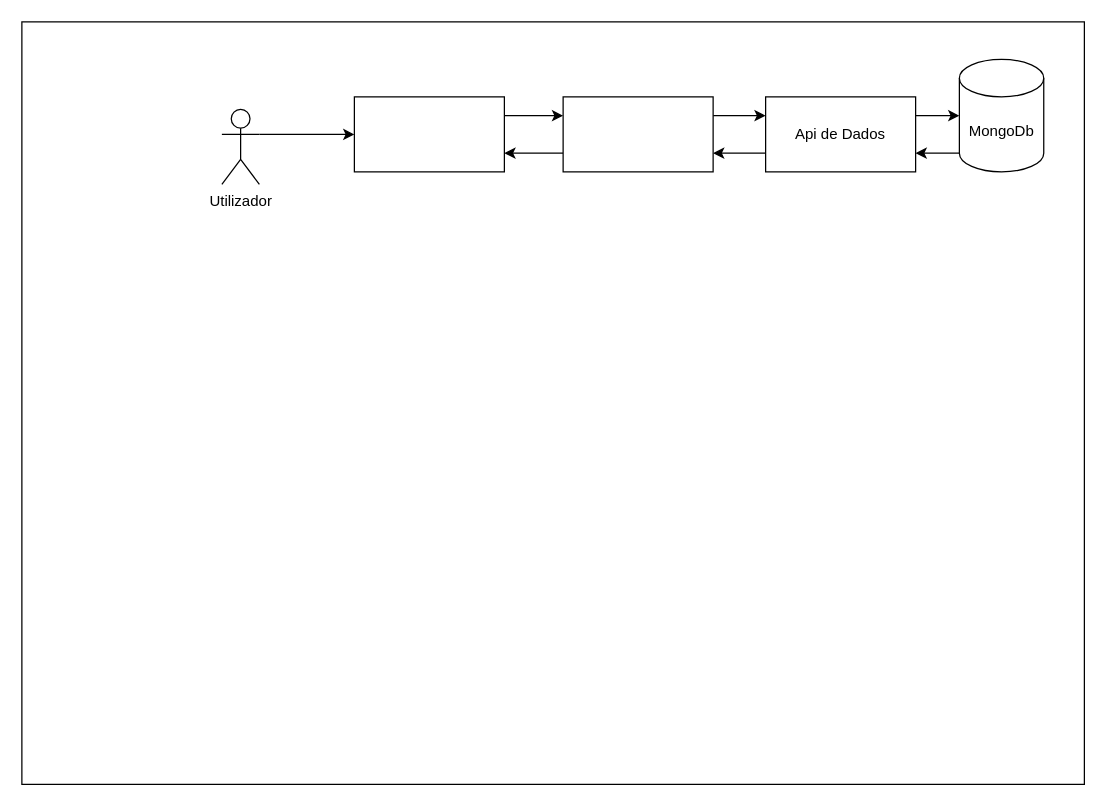
Image size: 1106x806. Some labels were removed from this diagram. Each missing label, with the centre of its shape:
"Nodejs Server" belongs at (x=637, y=134).
"UI" belongs at (x=428, y=134).
